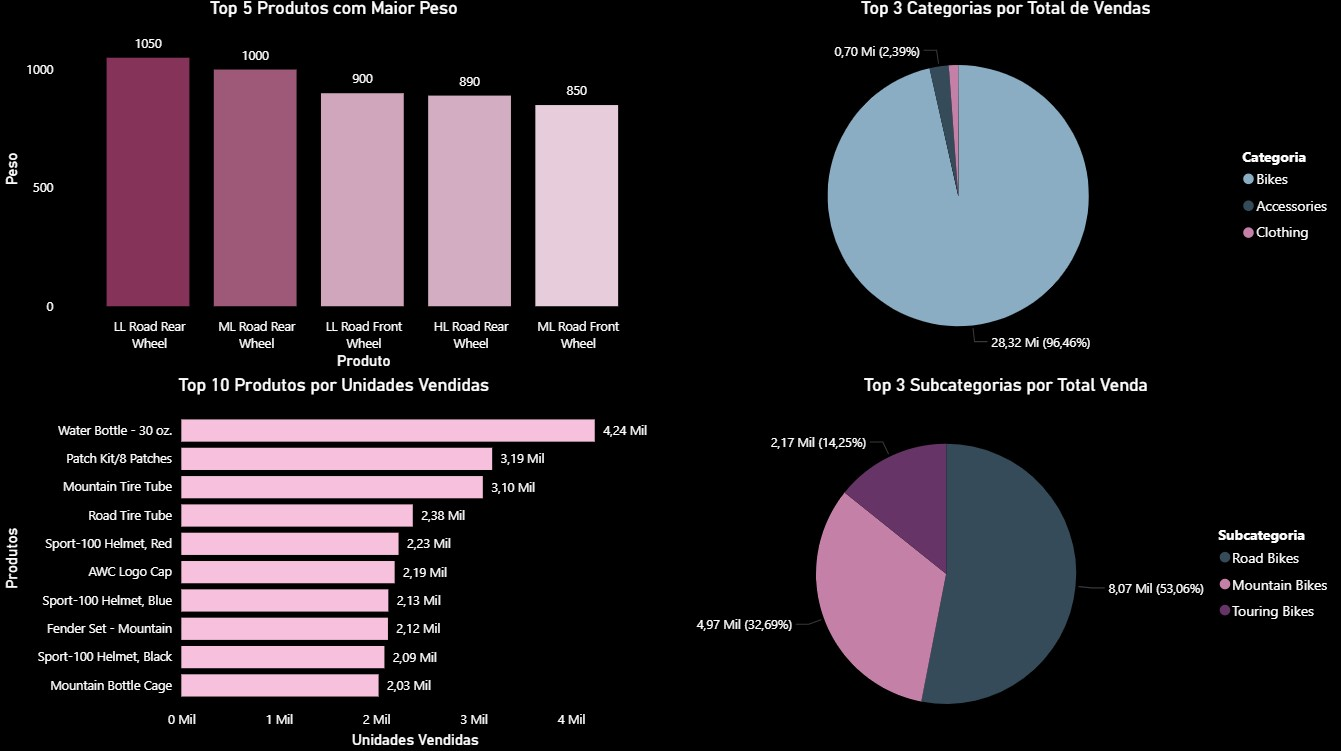

This screenshot's page, from the dashboard's own definition file:
{"tool":"powerbi","page":{"name":"2. Vendas por Produto, Categoria e Subcategoria","canvas":[1280,720],"ordinal":2},"visuals":[{"type":"pieChart","title":"Top 3 Categorias por Total de Vendas","fields":{"Category":["Top3CategoriasTotalVendas.Nome_Categoria"],"Y":["Sum(Top3CategoriasTotalVendas.Categoria)"]},"box":[639.5,0,640.8,359.5],"z":0},{"type":"pieChart","title":"Top 3 Subcategorias por Total Venda","fields":{"Category":["Top3SubCategoriasTotalVendas.Nome_Subcategoria"],"Y":["Sum(Top3SubCategoriasTotalVendas.SubCategoria)"]},"box":[639.5,359.5,640.8,360.9],"z":1000},{"type":"columnChart","title":"Top 5 Produtos com Maior Peso","fields":{"Category":["Top5ProdutosComMaiorPeso.Nome_Produto"],"Y":["Sum(Top5ProdutosComMaiorPeso.Peso_Produto)"]},"box":[0,0,639.5,359.5],"z":2000},{"type":"barChart","title":"Top 10 Produtos por Unidades Vendidas","fields":{"Y":["Sum(Top10UnidadesVendidas.Quantidade)"],"Category":["Top10UnidadesVendidas.Nome_Produto"]},"box":[0,359.5,639.5,360.9],"z":3000}]}

Visuals, with their boxes in screenshot pixels (x1, y1, x2, y2), scaled from the page's 1280x720 canvas onto the 1341x751 screenshot:
"Top 3 Categorias por Total de Vendas" pieChart: 670/0/1340/375
"Top 3 Subcategorias por Total Venda" pieChart: 670/375/1340/750
"Top 5 Produtos com Maior Peso" columnChart: 0/0/670/375
"Top 10 Produtos por Unidades Vendidas" barChart: 0/375/670/750
